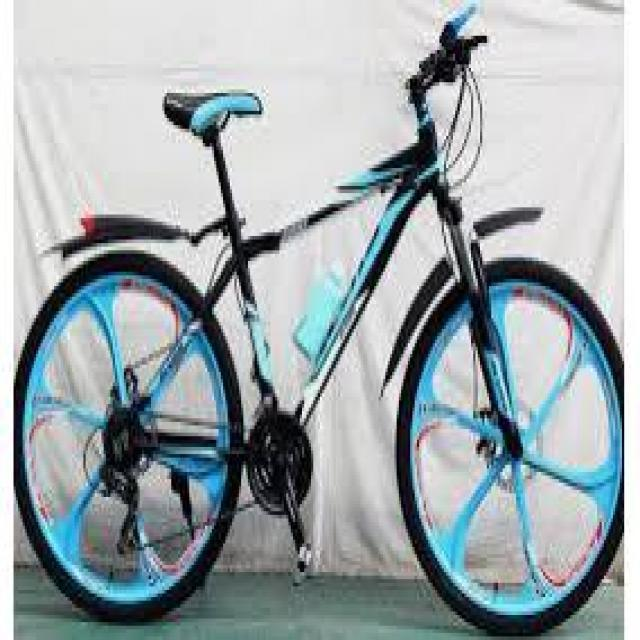bicycle: (26, 30, 628, 609)
